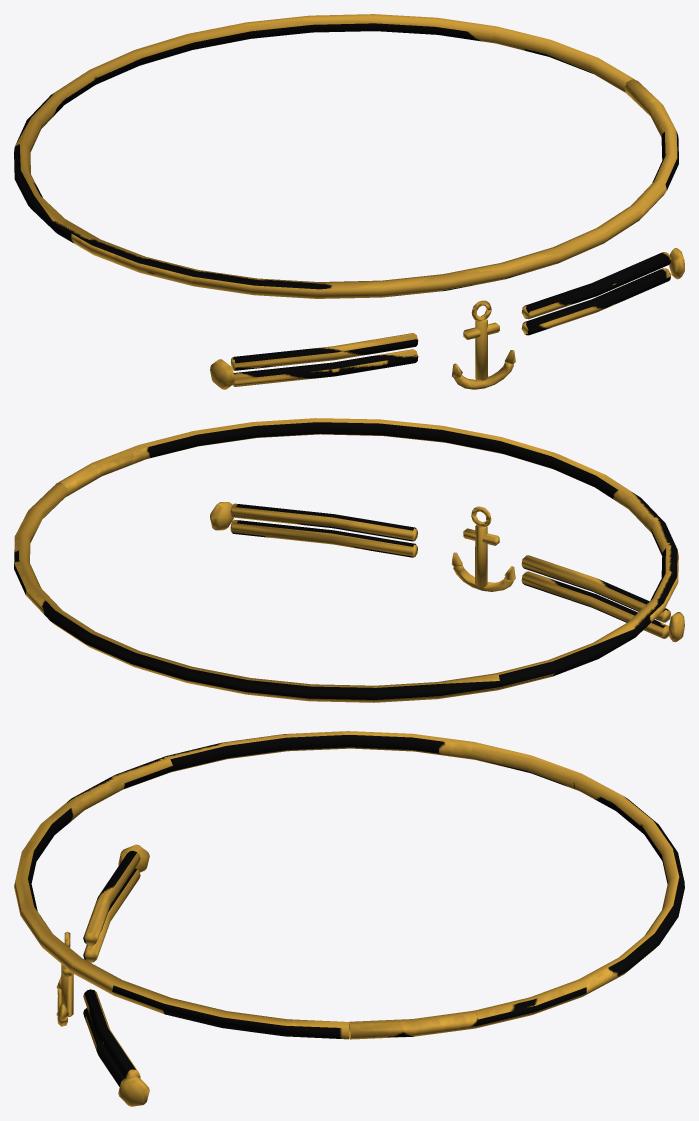
File: Albatros_Gorra_Oro.fbx
3 renders of one model, top to bottom at view 1: azimuth 30°, elevation 25°; view 2: azimuth 150°, elevation 25°; view 3: azimuth 270°, elevation 25°, orthographic. The views are drawn at different scales.
Parts seen in each view (by area): view 1: Albatros_Gorra_Oro; view 2: Albatros_Gorra_Oro; view 3: Albatros_Gorra_Oro.
Part boxes in pixels (x1,y1,x2,y2): Albatros_Gorra_Oro: (14, 14, 684, 389); Albatros_Gorra_Oro: (14, 418, 684, 702); Albatros_Gorra_Oro: (14, 731, 684, 1106).
Bounding box in the file's own units: 2.16 × 0.4885 × 2.05.
